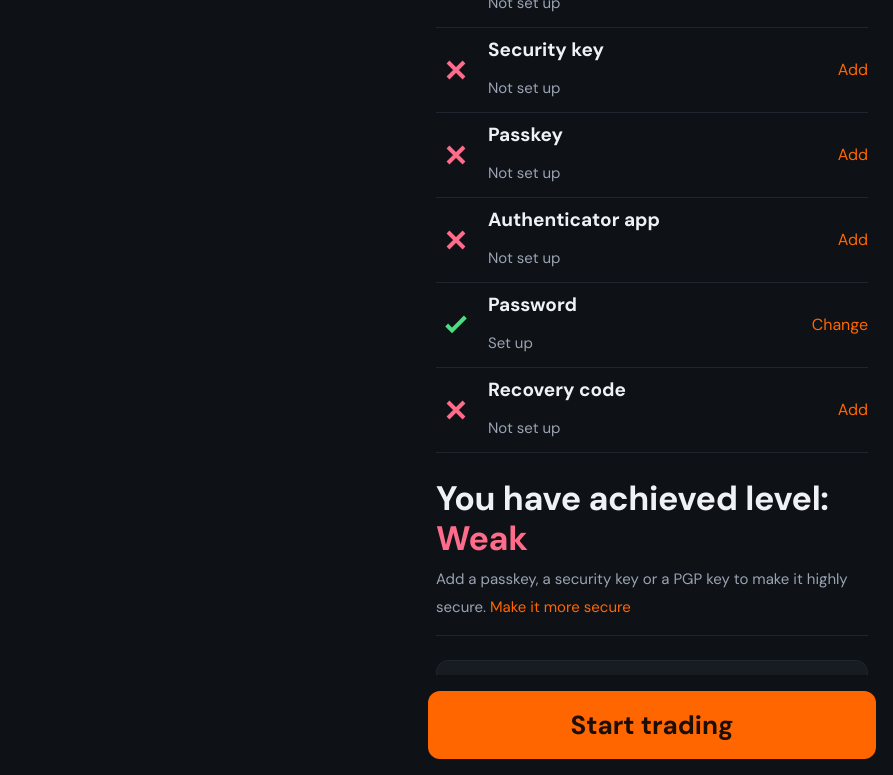
Test: /setup/welcome (owner #97) › someone already logged in (setup opened only for a wallet) follows a link straight there, still logged in
(page scrolled)
Click the link "Change".
click(840, 325)  # box [812,311,868,339]
(page scrolled)
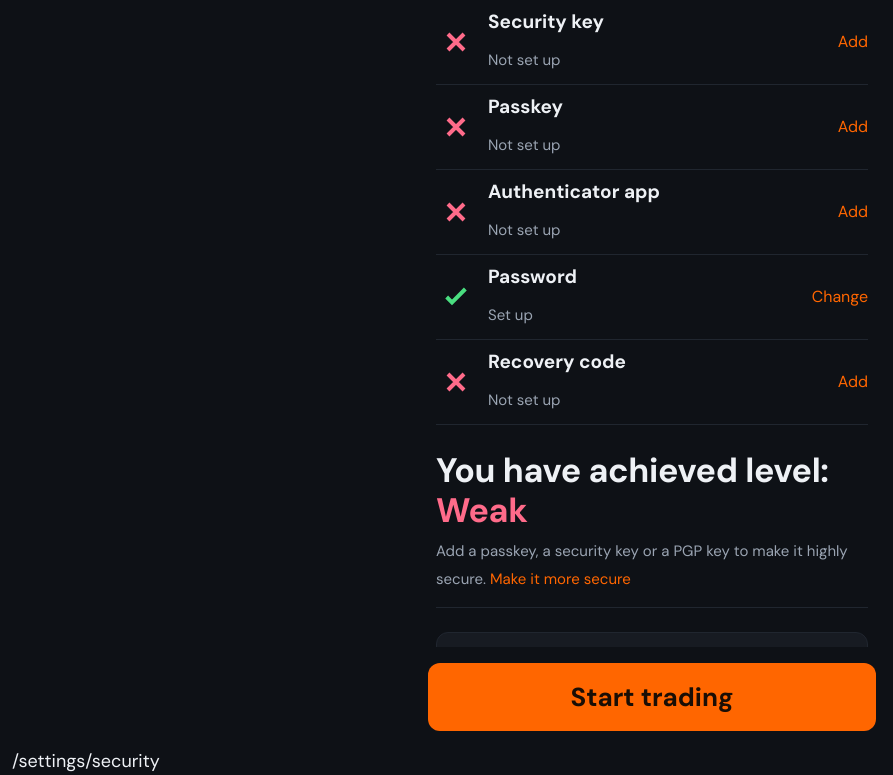
Check: the text with test id "where" reads "/settings/security", box [12,749,160,773]
